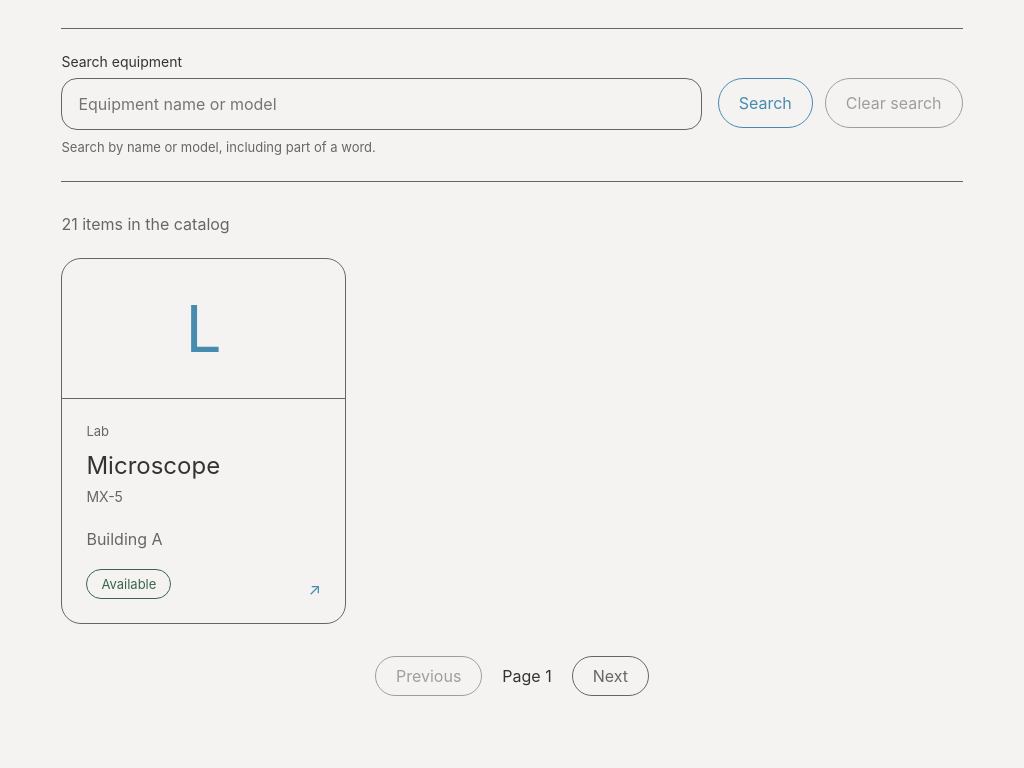
Scenario: US3-2 catalog search › waits for submission, resets pagination and retains the query on the next page
The image size is (1024, 768).
(page scrolled)
Click the button "Next": (610, 676) [572,656,649,696]
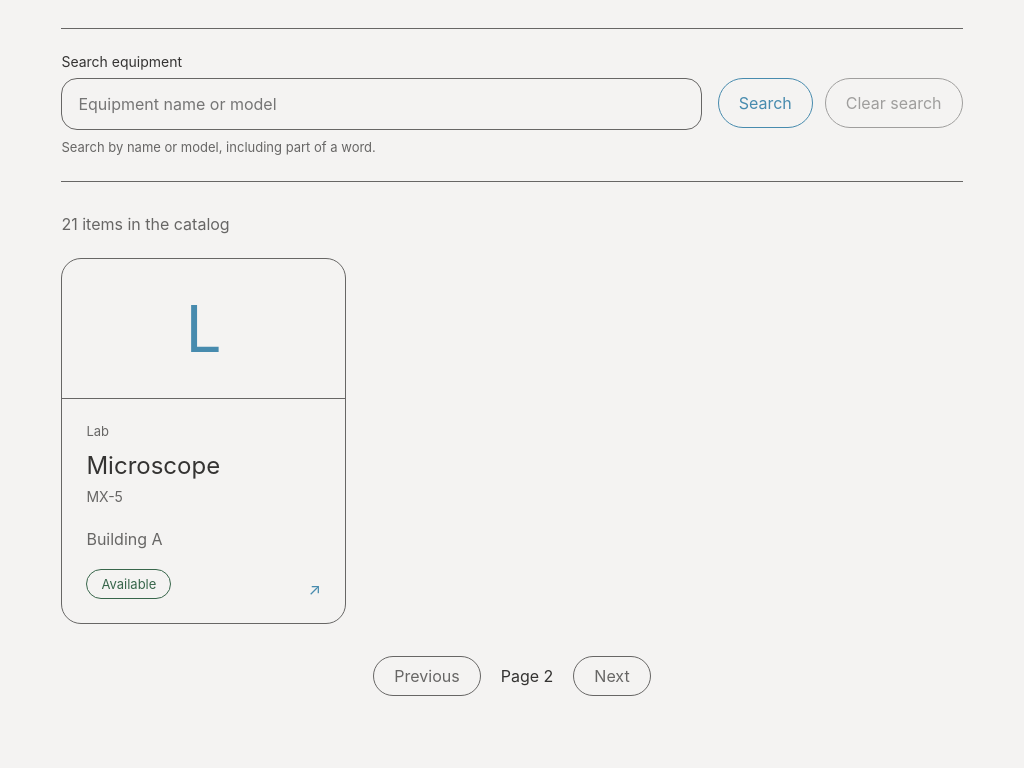
In the search field: (382, 104) [61,78,702,130], type "  micro  "
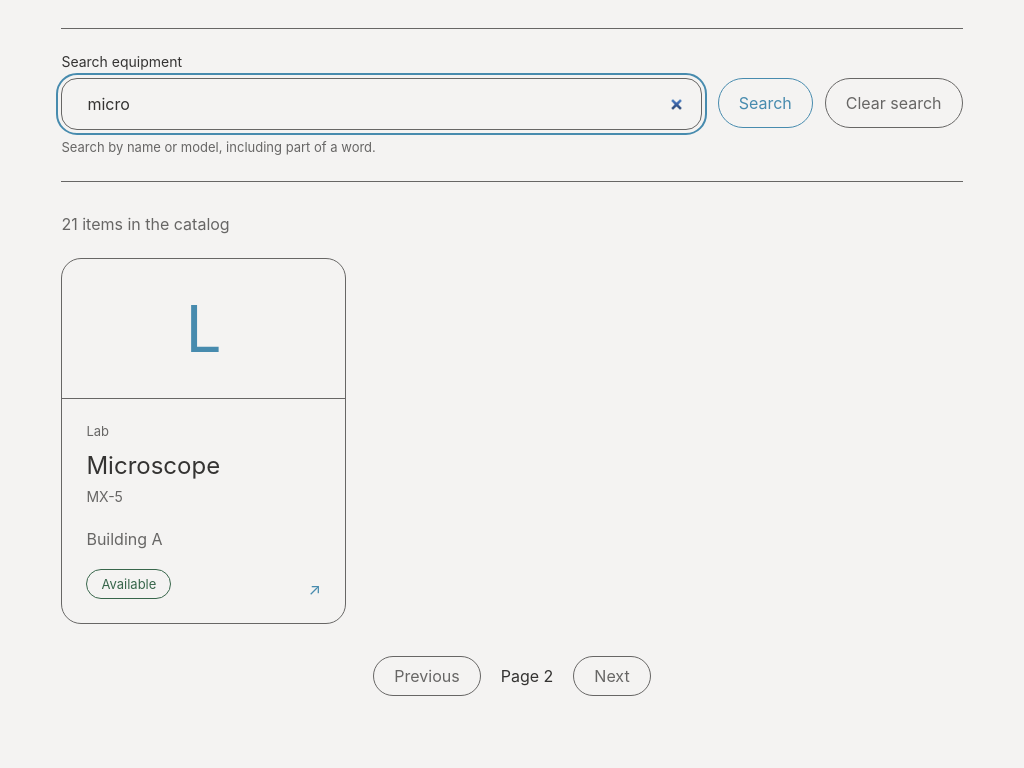
Click the button "Search": (765, 103) [718,78,813,128]
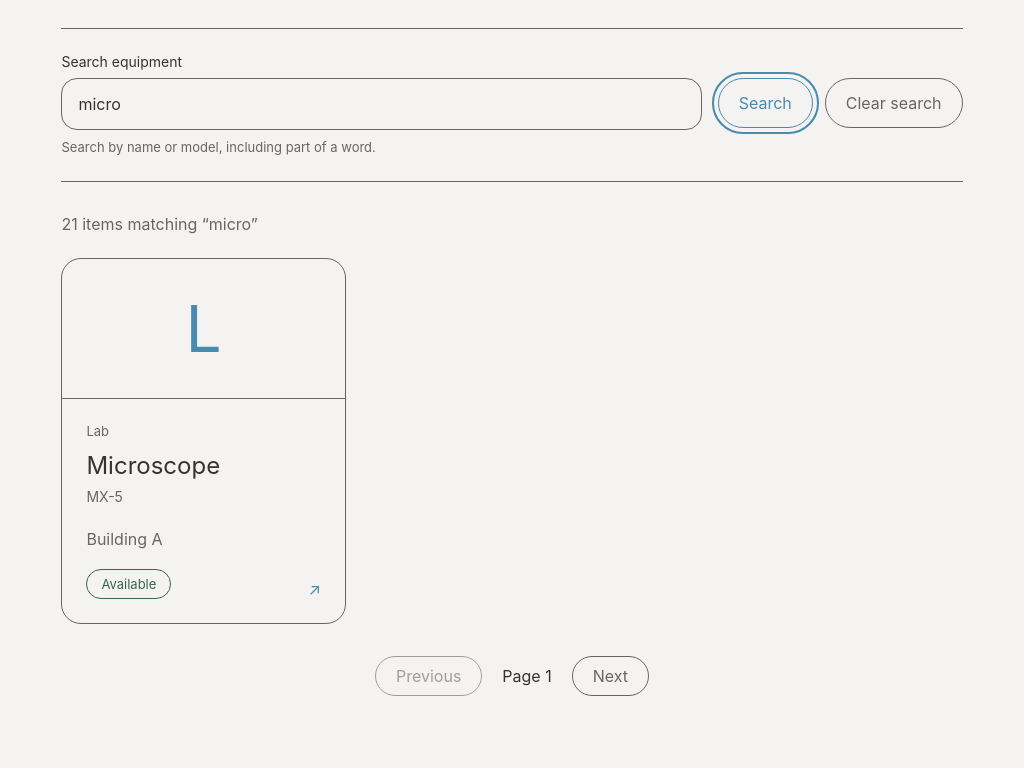
Click the button "Next": (610, 676) [572,656,649,696]
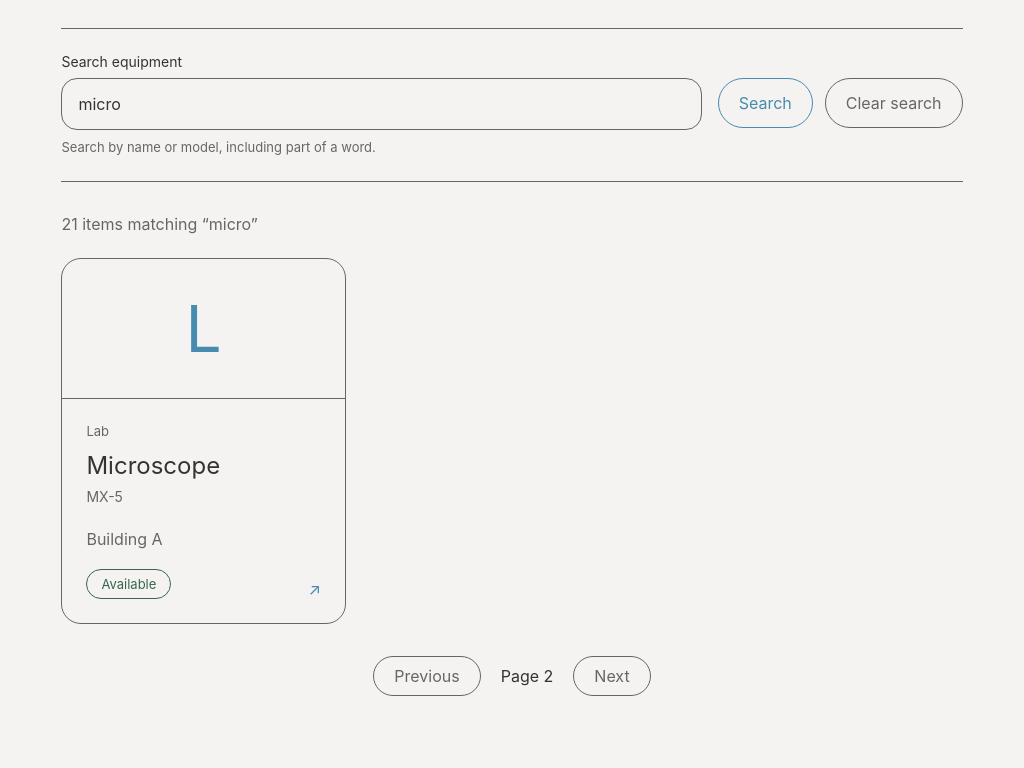
Click the button "Clear search": (894, 103) [825,78,962,128]
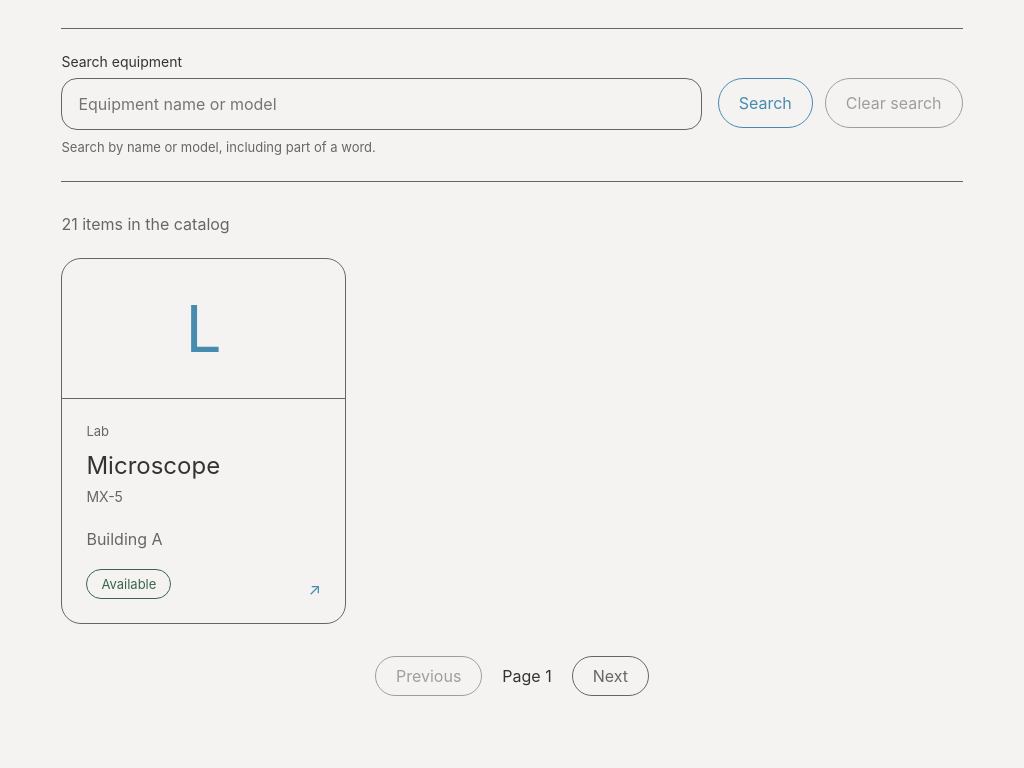
expect the search field is empty: met, box [61,78,702,130]
